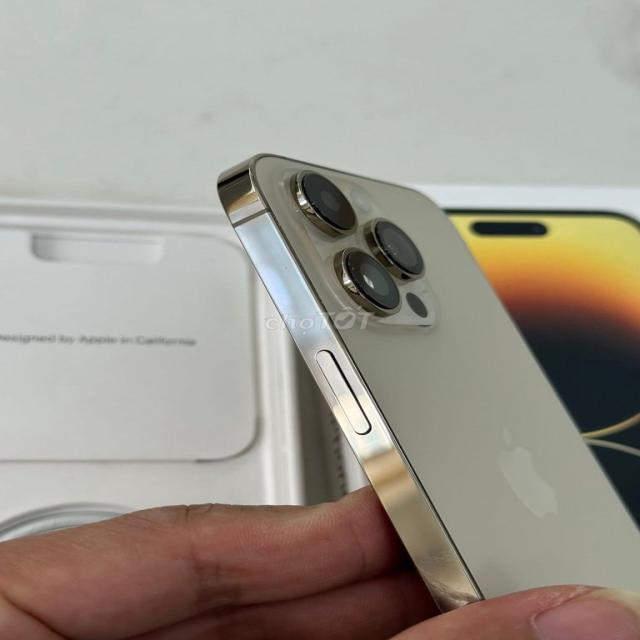gen_14: (221, 135, 640, 640)
